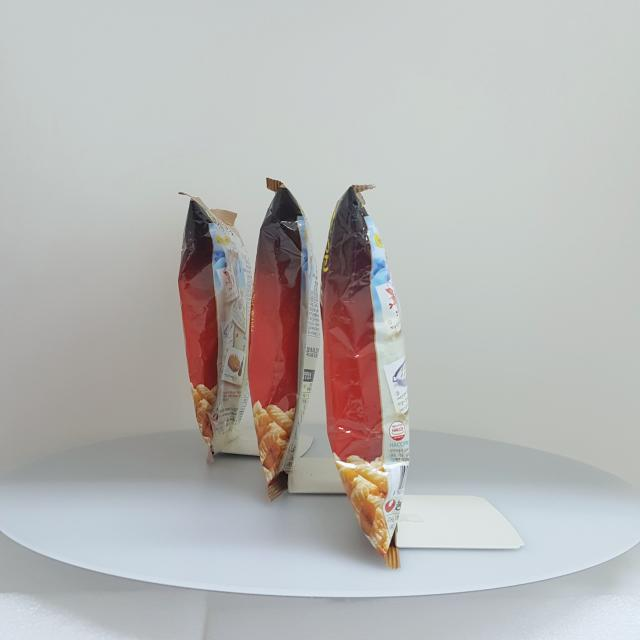-90G: (321, 184, 411, 570), (249, 178, 322, 504), (178, 193, 255, 464)
